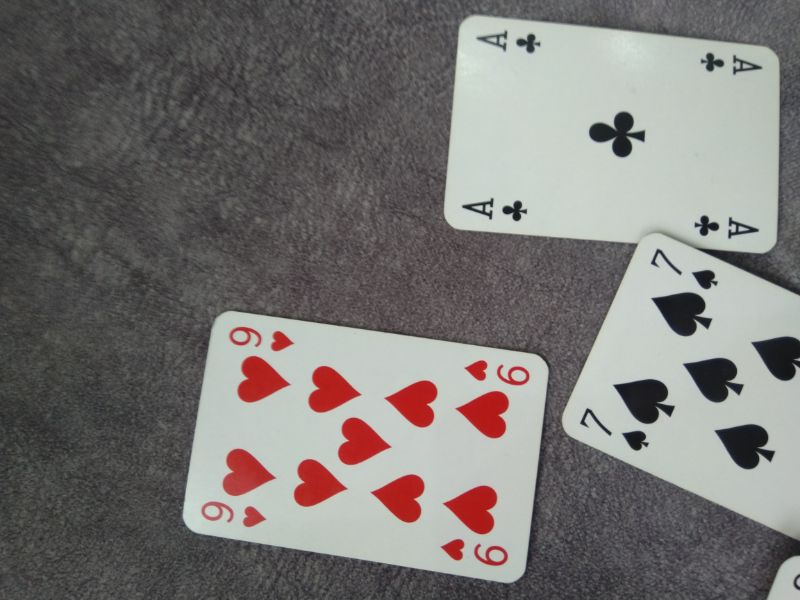7s: (645, 245, 723, 293), (576, 406, 653, 453)
9h: (218, 321, 301, 353), (459, 356, 531, 391), (198, 498, 271, 531), (438, 535, 510, 568)
Ac: (454, 194, 538, 223), (691, 210, 764, 243), (475, 27, 547, 58), (697, 50, 765, 79)
